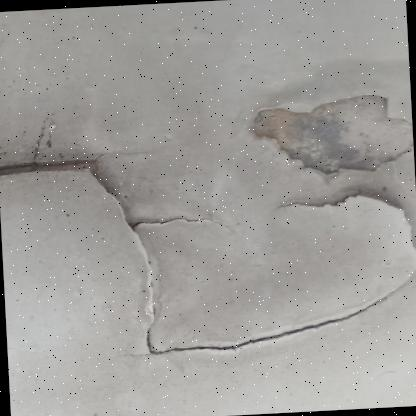Crack: (226, 55, 415, 379), (0, 98, 236, 282), (100, 259, 248, 374)
